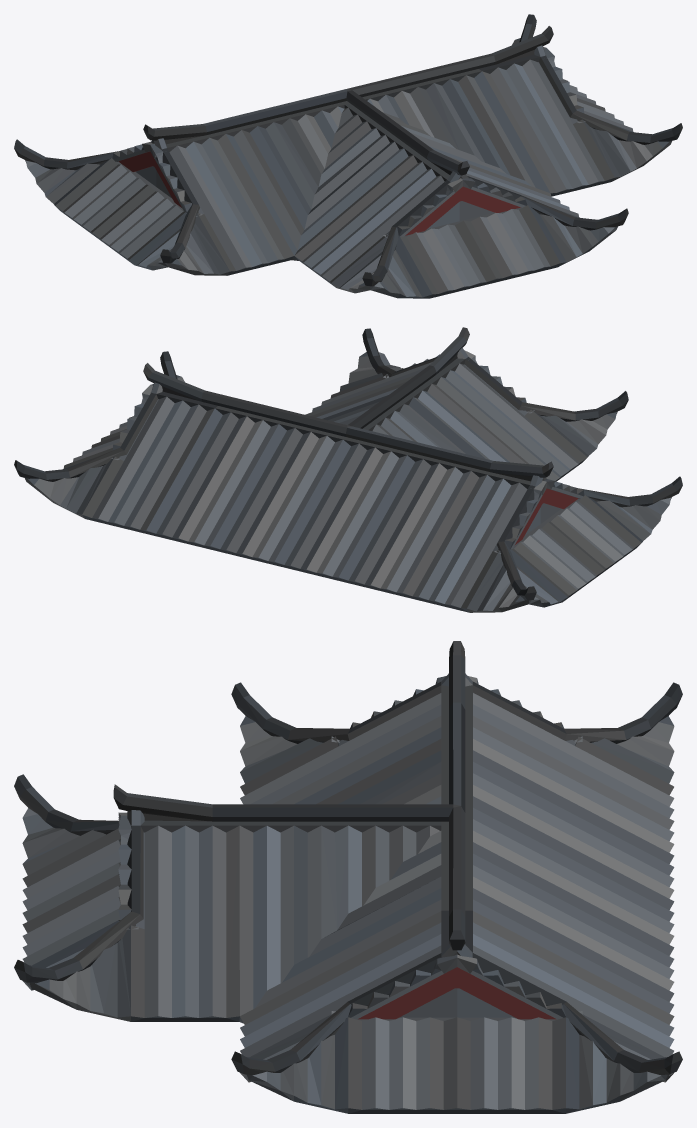
Rendered from BuildingA-T_RoofLOD1.fbx.
3 views of the same model, one above another, from view 1: azimuth 30°, elevation 25°; view 2: azimuth 150°, elevation 25°; view 3: azimuth 270°, elevation 25° (orthographic). The views are drawn at different scales.
Visible parts, largest first — view 1: BuildingA-T_RoofLOD1; view 2: BuildingA-T_RoofLOD1; view 3: BuildingA-T_RoofLOD1.
Part boxes in pixels (bbox=[...]): BuildingA-T_RoofLOD1: bbox=[14, 14, 682, 298]; BuildingA-T_RoofLOD1: bbox=[14, 327, 682, 612]; BuildingA-T_RoofLOD1: bbox=[14, 641, 682, 1113].
Bounding box in the file's own units: 2039 × 376 × 1539.
